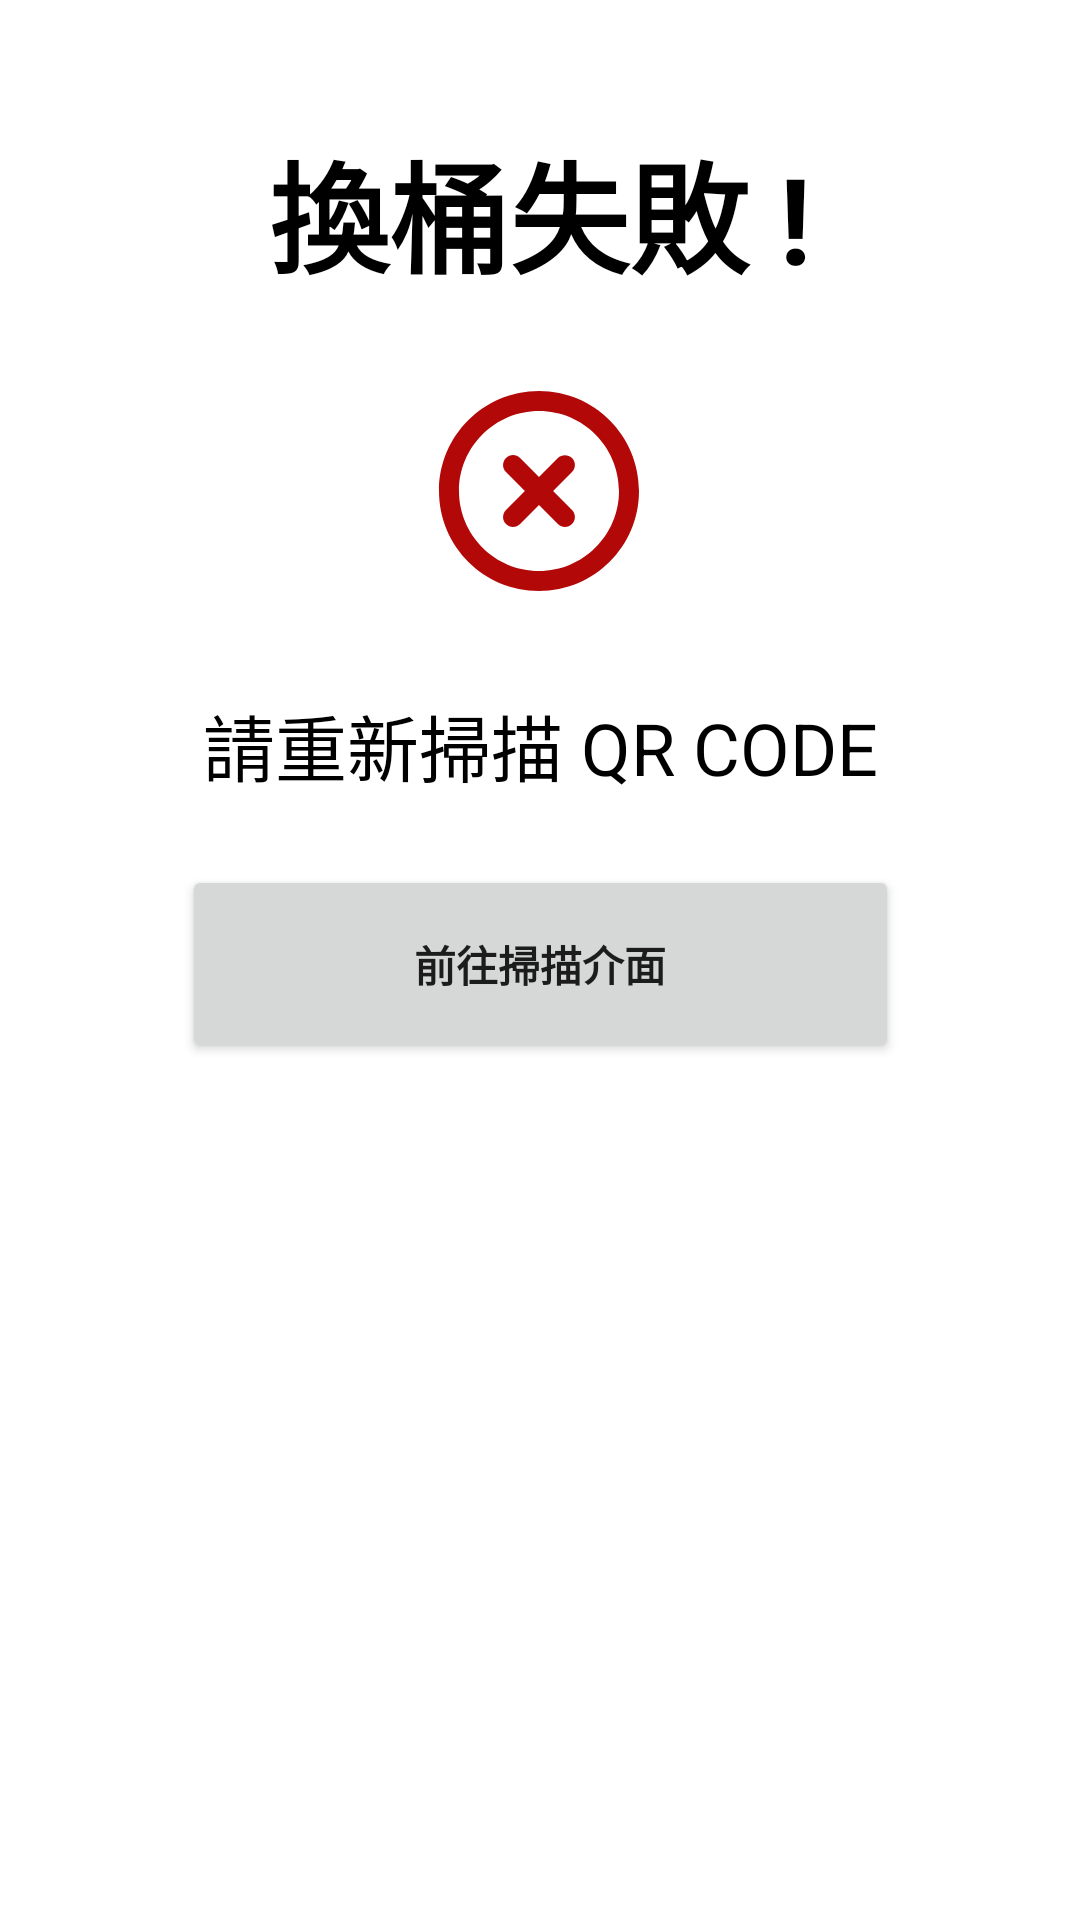

Screen size 1080×1920. Icon name, then its box in pixels as (x1=x1, y1=y1, x2=x2, y2=y2):
highlight off: (x1=439, y1=391, x2=639, y2=591)
